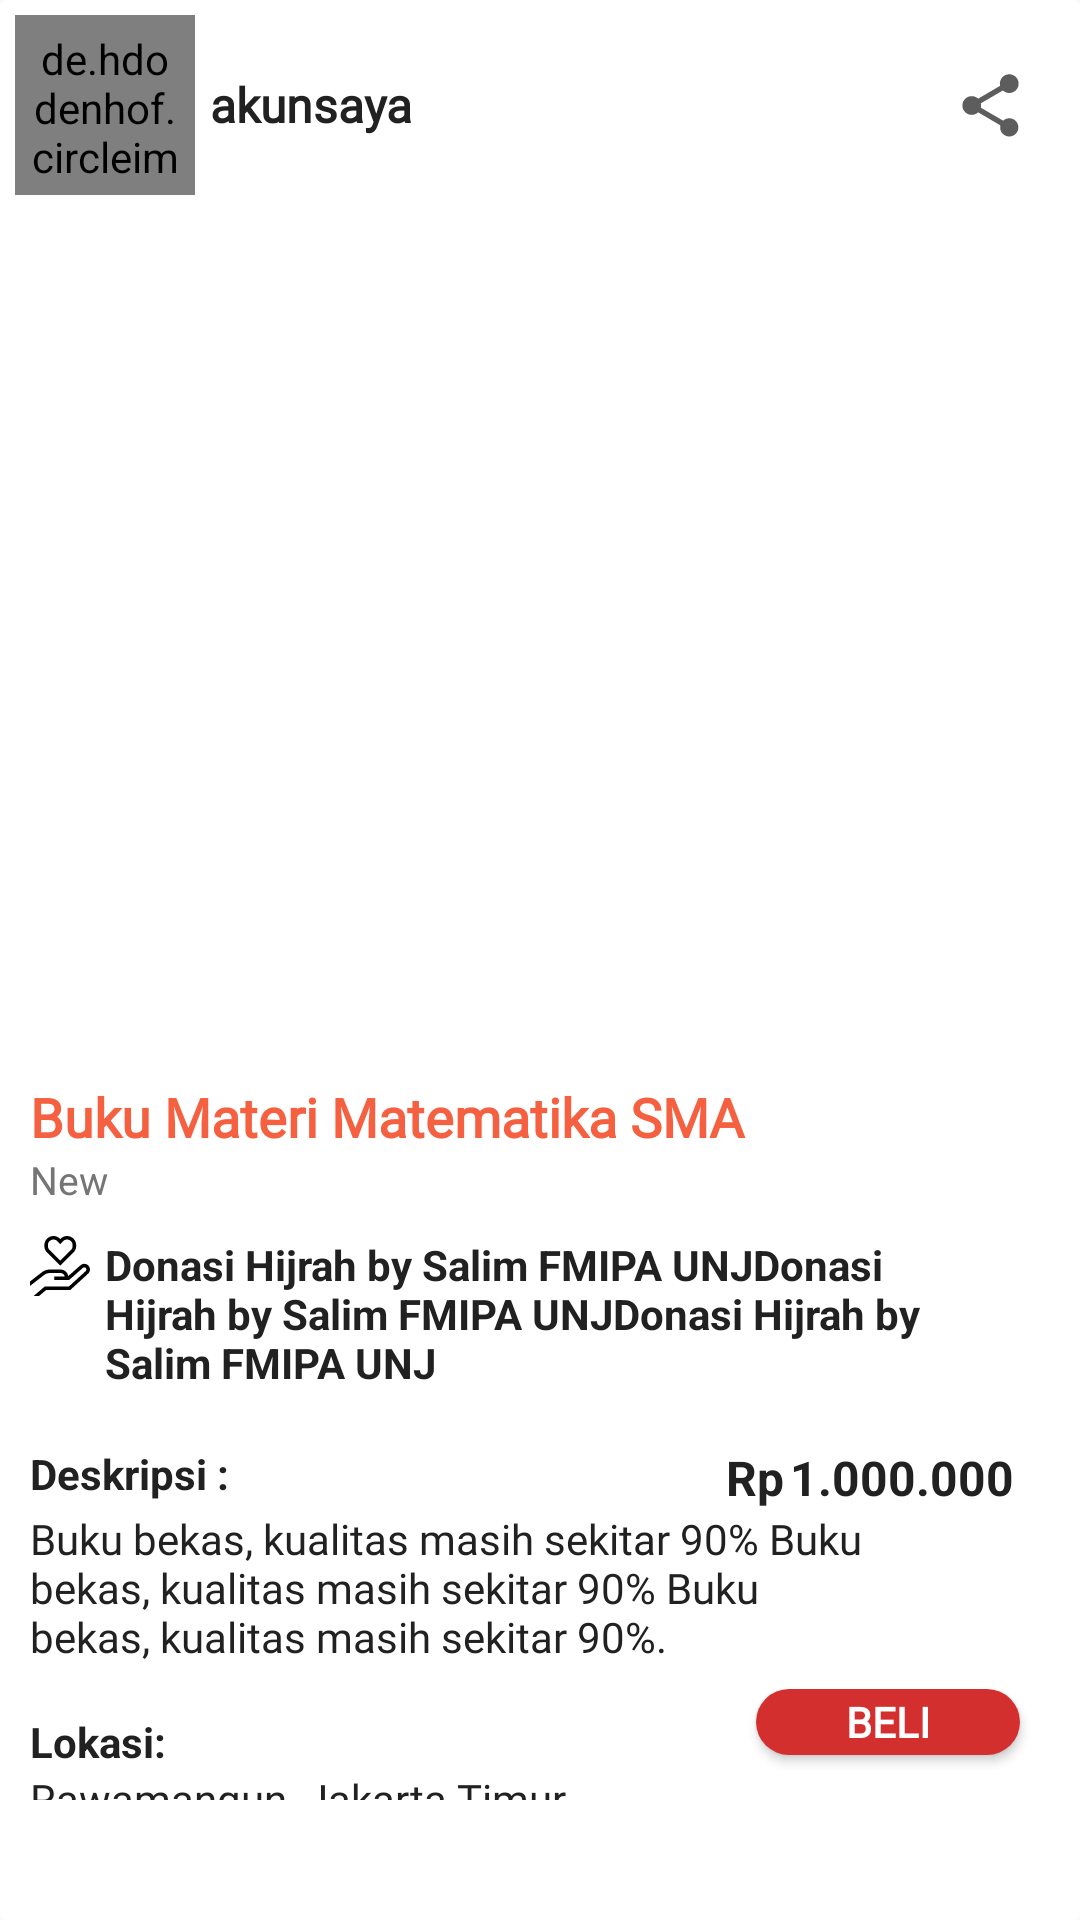

Icons on this 1080 x 1920 Android screen, each with its box as (x1, y1, x2, y2):
campaign heart: (30, 1236, 90, 1296)
share: (962, 74, 1019, 137)
